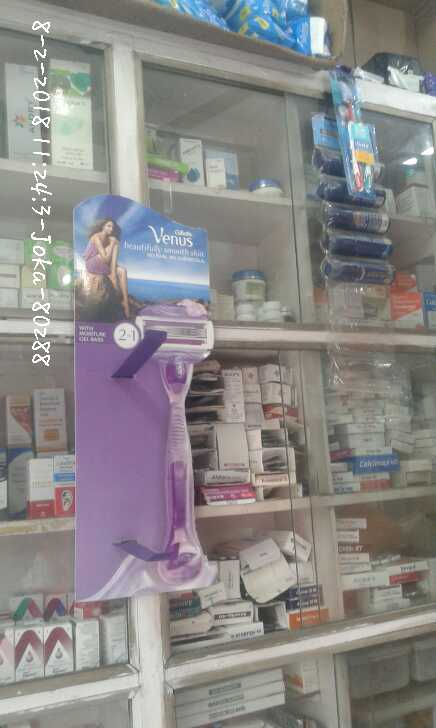reject: (131, 294, 219, 356)
